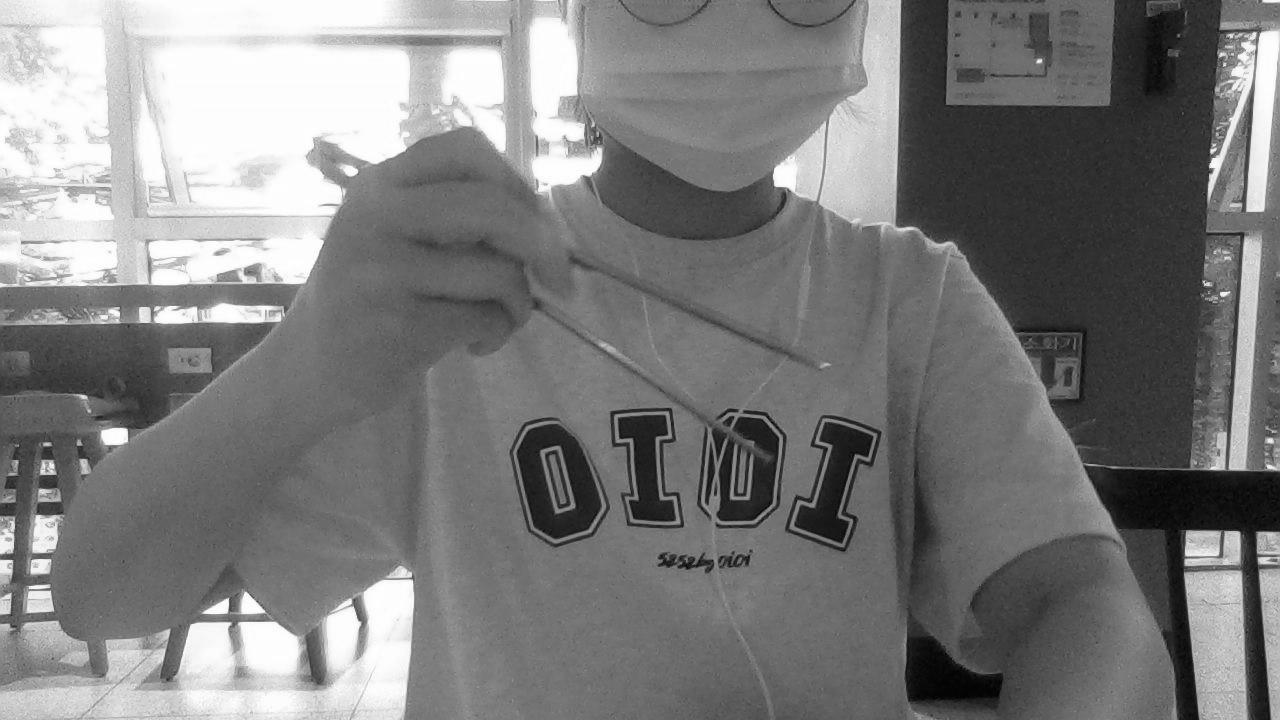chopstick: (306, 151, 779, 464), (311, 138, 835, 373)
hand: (298, 125, 579, 418)
